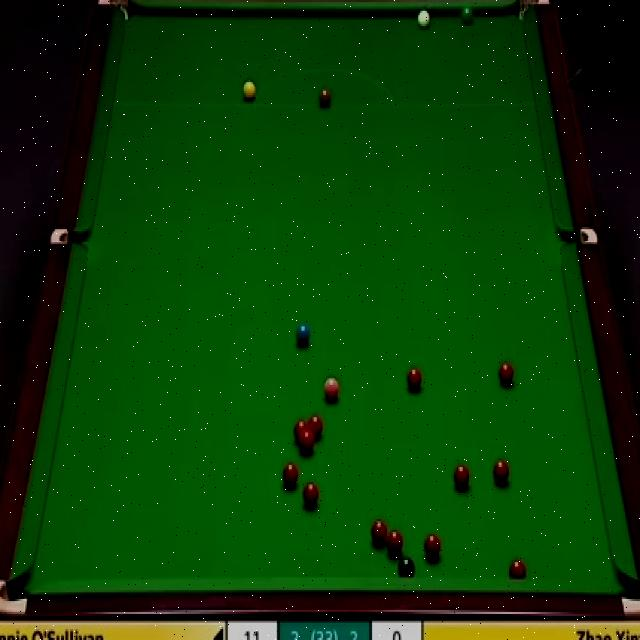black-ball: (398, 554, 416, 578)
blue-ball: (294, 322, 313, 345)
brown-ball: (318, 84, 331, 106)
green-ball: (461, 4, 475, 24)
pink-ball: (323, 377, 341, 404)
red-ball: (452, 463, 472, 491), (387, 526, 404, 558), (423, 534, 442, 562), (278, 464, 300, 488), (406, 363, 424, 392), (493, 458, 512, 485), (370, 520, 388, 546), (297, 489, 317, 511), (293, 419, 309, 446), (498, 361, 514, 388), (309, 415, 323, 440), (508, 558, 527, 576), (300, 434, 316, 454)
white-ball: (416, 9, 430, 30)
yellow-ball: (242, 82, 255, 100)
